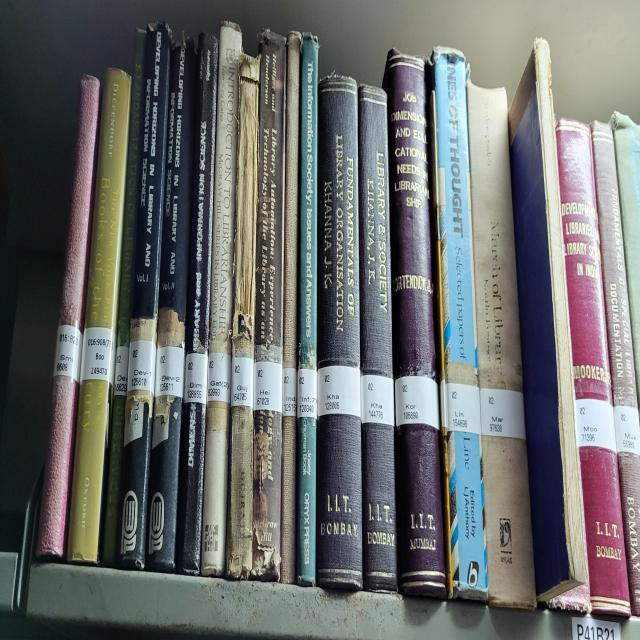Book: (466, 81, 536, 609), (556, 119, 630, 617), (384, 49, 446, 598), (430, 49, 488, 601), (68, 68, 131, 563), (36, 76, 100, 557), (119, 24, 171, 571), (146, 38, 196, 574), (316, 76, 362, 590), (102, 30, 146, 565), (176, 32, 219, 574), (201, 22, 242, 576), (359, 84, 398, 593), (252, 32, 286, 582), (226, 54, 260, 579), (280, 32, 301, 584), (298, 35, 319, 584)
Label: (395, 376, 439, 430), (480, 387, 525, 438), (318, 365, 361, 417), (576, 398, 616, 452), (80, 327, 116, 384), (446, 384, 481, 436), (361, 373, 395, 425), (54, 325, 82, 381), (155, 346, 185, 398), (128, 341, 156, 395), (254, 360, 282, 414), (184, 352, 208, 403), (231, 357, 254, 409), (208, 352, 231, 403), (298, 368, 318, 419), (282, 365, 298, 417), (114, 346, 129, 395)
